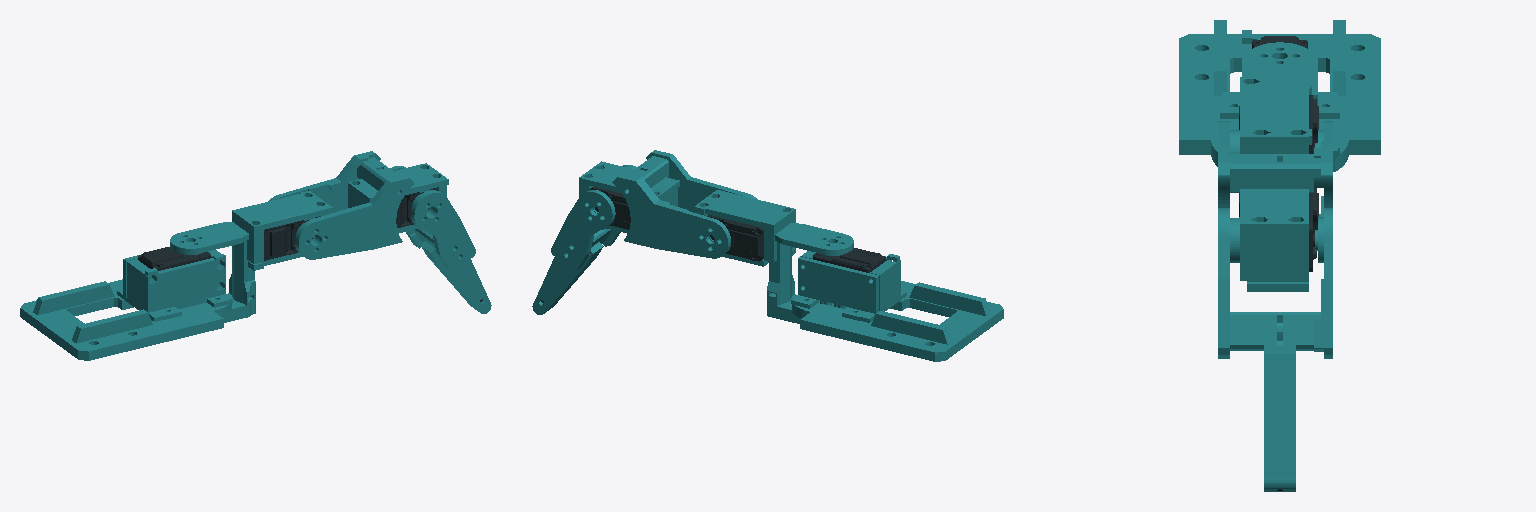
URDF robot description (mist_r7_fixed_test_leg):
<?xml version='1.0' encoding='utf-8'?>
<robot name="mist_r7_fixed_test_leg">
  <link name="base_mount">
    <visual name="yaw_case_saddle">
      <geometry>
        <mesh filename="../../design/single_leg_r7_wide_joints_20260914/output/assembly_mesh/yaw_case_saddle.stl" scale="0.001 0.001 0.001" />
      </geometry>
      <material name="yaw_case_saddle_colour">
        <color rgba="0.22 0.58 0.60 1" />
      </material>
    </visual>
    <visual name="case_cap_yaw">
      <geometry>
        <mesh filename="../../design/single_leg_r7_wide_joints_20260914/output/assembly_mesh/case_cap_yaw.stl" scale="0.001 0.001 0.001" />
      </geometry>
      <material name="case_cap_yaw_colour">
        <color rgba="0.22 0.58 0.60 1" />
      </material>
    </visual>
    <visual name="servo_yaw">
      <geometry>
        <mesh filename="../../design/single_leg_r7_wide_joints_20260914/output/assembly_mesh/servo_yaw.stl" scale="0.001 0.001 0.001" />
      </geometry>
      <material name="servo_yaw_colour">
        <color rgba="0.18 0.23 0.25 1" />
      </material>
    </visual>
    <visual name="bench_mounting_plate">
      <geometry>
        <mesh filename="../../design/single_leg_r7_wide_joints_20260914/output/assembly_mesh/bench_mounting_plate.stl" scale="0.001 0.001 0.001" />
      </geometry>
      <material name="bench_mounting_plate_colour">
        <color rgba="0.22 0.58 0.60 1" />
      </material>
    </visual>
    <inertial>
      <origin xyz="-0.03181038563164084 -4.9075545814887306e-05 -0.023931630508960546" />
      <mass value="0.15654936271041547" />
      <inertia ixx="8.672821644569633e-05" ixy="7.806166264533957e-08" ixz="-2.9782332326370206e-05" iyy="0.00020871868933529337" iyz="-3.694922418017422e-08" izz="0.0002518412264048065" />
    </inertial>
    <collision name="base_mount_proxy_0">
      <origin xyz="-0.014 0 -0.017" rpy="0 0 0" />
      <geometry>
        <box size="0.059 0.041 0.032" />
      </geometry>
    </collision>
  </link>
  <link name="coxa">
    <visual name="coxa_upper_and_hip_saddle">
      <geometry>
        <mesh filename="../../design/single_leg_r7_wide_joints_20260914/output/assembly_mesh/coxa_upper_and_hip_saddle.stl" scale="0.001 0.001 0.001" />
      </geometry>
      <material name="coxa_upper_and_hip_saddle_colour">
        <color rgba="0.22 0.58 0.60 1" />
      </material>
    </visual>
    <visual name="coxa_lower_auxiliary_arm">
      <geometry>
        <mesh filename="../../design/single_leg_r7_wide_joints_20260914/output/assembly_mesh/coxa_lower_auxiliary_arm.stl" scale="0.001 0.001 0.001" />
      </geometry>
      <material name="coxa_lower_auxiliary_arm_colour">
        <color rgba="0.22 0.58 0.60 1" />
      </material>
    </visual>
    <visual name="case_cap_hip">
      <geometry>
        <mesh filename="../../design/single_leg_r7_wide_joints_20260914/output/assembly_mesh/case_cap_hip.stl" scale="0.001 0.001 0.001" />
      </geometry>
      <material name="case_cap_hip_colour">
        <color rgba="0.22 0.58 0.60 1" />
      </material>
    </visual>
    <visual name="servo_hip">
      <geometry>
        <mesh filename="../../design/single_leg_r7_wide_joints_20260914/output/assembly_mesh/servo_hip.stl" scale="0.001 0.001 0.001" />
      </geometry>
      <material name="servo_hip_colour">
        <color rgba="0.18 0.23 0.25 1" />
      </material>
    </visual>
    <visual name="horn_yaw_main">
      <geometry>
        <mesh filename="../../design/single_leg_r7_wide_joints_20260914/output/assembly_mesh/horn_yaw_main.stl" scale="0.001 0.001 0.001" />
      </geometry>
      <material name="horn_yaw_main_colour">
        <color rgba="0.22 0.58 0.60 1" />
      </material>
    </visual>
    <visual name="horn_yaw_auxiliary">
      <geometry>
        <mesh filename="../../design/single_leg_r7_wide_joints_20260914/output/assembly_mesh/horn_yaw_auxiliary.stl" scale="0.001 0.001 0.001" />
      </geometry>
      <material name="horn_yaw_auxiliary_colour">
        <color rgba="0.22 0.58 0.60 1" />
      </material>
    </visual>
    <visual name="yaw_auxiliary_spacer_1">
      <geometry>
        <mesh filename="../../design/single_leg_r7_wide_joints_20260914/output/assembly_mesh/yaw_auxiliary_spacer_1.stl" scale="0.001 0.001 0.001" />
      </geometry>
      <material name="yaw_auxiliary_spacer_1_colour">
        <color rgba="0.22 0.58 0.60 1" />
      </material>
    </visual>
    <visual name="yaw_auxiliary_spacer_2">
      <geometry>
        <mesh filename="../../design/single_leg_r7_wide_joints_20260914/output/assembly_mesh/yaw_auxiliary_spacer_2.stl" scale="0.001 0.001 0.001" />
      </geometry>
      <material name="yaw_auxiliary_spacer_2_colour">
        <color rgba="0.22 0.58 0.60 1" />
      </material>
    </visual>
    <visual name="yaw_auxiliary_spacer_3">
      <geometry>
        <mesh filename="../../design/single_leg_r7_wide_joints_20260914/output/assembly_mesh/yaw_auxiliary_spacer_3.stl" scale="0.001 0.001 0.001" />
      </geometry>
      <material name="yaw_auxiliary_spacer_3_colour">
        <color rgba="0.22 0.58 0.60 1" />
      </material>
    </visual>
    <visual name="yaw_auxiliary_spacer_4">
      <geometry>
        <mesh filename="../../design/single_leg_r7_wide_joints_20260914/output/assembly_mesh/yaw_auxiliary_spacer_4.stl" scale="0.001 0.001 0.001" />
      </geometry>
      <material name="yaw_auxiliary_spacer_4_colour">
        <color rgba="0.22 0.58 0.60 1" />
      </material>
    </visual>
    <inertial>
      <origin xyz="0.055452587774020255 -0.00032622706613614225 -0.007411181974307129" />
      <mass value="0.11618827437852595" />
      <inertia ixx="4.884448832271316e-05" ixy="7.745356217217634e-07" ixz="-3.0773868545057644e-05" iyy="0.0001315815648874679" iyz="5.456770085067065e-07" izz="9.845169734911079e-05" />
    </inertial>
    <collision name="coxa_proxy_0">
      <origin xyz="0.039 0 0" rpy="0 0 0" />
      <geometry>
        <box size="0.078 0.024 0.018" />
      </geometry>
    </collision>
    <collision name="coxa_proxy_1">
      <origin xyz="0.067 0 -0.01" rpy="0 0 0" />
      <geometry>
        <box size="0.055 0.04 0.027" />
      </geometry>
    </collision>
  </link>
  <link name="femur">
    <visual name="femur_main_and_knee_saddle">
      <geometry>
        <mesh filename="../../design/single_leg_r7_wide_joints_20260914/output/assembly_mesh/femur_main_and_knee_saddle.stl" scale="0.001 0.001 0.001" />
      </geometry>
      <material name="femur_main_and_knee_saddle_colour">
        <color rgba="0.22 0.58 0.60 1" />
      </material>
    </visual>
    <visual name="femur_auxiliary_cheek">
      <geometry>
        <mesh filename="../../design/single_leg_r7_wide_joints_20260914/output/assembly_mesh/femur_auxiliary_cheek.stl" scale="0.001 0.001 0.001" />
      </geometry>
      <material name="femur_auxiliary_cheek_colour">
        <color rgba="0.22 0.58 0.60 1" />
      </material>
    </visual>
    <visual name="case_cap_knee">
      <geometry>
        <mesh filename="../../design/single_leg_r7_wide_joints_20260914/output/assembly_mesh/case_cap_knee.stl" scale="0.001 0.001 0.001" />
      </geometry>
      <material name="case_cap_knee_colour">
        <color rgba="0.22 0.58 0.60 1" />
      </material>
    </visual>
    <visual name="servo_knee">
      <geometry>
        <mesh filename="../../design/single_leg_r7_wide_joints_20260914/output/assembly_mesh/servo_knee.stl" scale="0.001 0.001 0.001" />
      </geometry>
      <material name="servo_knee_colour">
        <color rgba="0.18 0.23 0.25 1" />
      </material>
    </visual>
    <visual name="horn_hip_main">
      <geometry>
        <mesh filename="../../design/single_leg_r7_wide_joints_20260914/output/assembly_mesh/horn_hip_main.stl" scale="0.001 0.001 0.001" />
      </geometry>
      <material name="horn_hip_main_colour">
        <color rgba="0.22 0.58 0.60 1" />
      </material>
    </visual>
    <visual name="horn_hip_auxiliary">
      <geometry>
        <mesh filename="../../design/single_leg_r7_wide_joints_20260914/output/assembly_mesh/horn_hip_auxiliary.stl" scale="0.001 0.001 0.001" />
      </geometry>
      <material name="horn_hip_auxiliary_colour">
        <color rgba="0.22 0.58 0.60 1" />
      </material>
    </visual>
    <inertial>
      <origin xyz="0.0633651760426129 -0.001298314040615189 0.001934967497040738" />
      <mass value="0.12491601583063594" />
      <inertia ixx="3.8022032231092195e-05" ixy="-3.321671674319615e-06" ixz="-3.950552346680719e-07" iyy="0.00011345261288137595" iyz="3.8489769422451107e-07" izz="0.00012329667234778685" />
    </inertial>
    <collision name="femur_proxy_0">
      <origin xyz="0.043 0 0" rpy="0 0 0" />
      <geometry>
        <box size="0.08599999999999999 0.024 0.018" />
      </geometry>
    </collision>
    <collision name="femur_proxy_1">
      <origin xyz="0.075 0 0.01" rpy="0 0 0" />
      <geometry>
        <box size="0.047 0.041 0.027" />
      </geometry>
    </collision>
  </link>
  <link name="tibia">
    <visual name="tibia_curved_main_and_foot">
      <geometry>
        <mesh filename="../../design/single_leg_r7_wide_joints_20260914/output/assembly_mesh/tibia_curved_main_and_foot.stl" scale="0.001 0.001 0.001" />
      </geometry>
      <material name="tibia_curved_main_and_foot_colour">
        <color rgba="0.22 0.58 0.60 1" />
      </material>
    </visual>
    <visual name="tibia_auxiliary_cheek">
      <geometry>
        <mesh filename="../../design/single_leg_r7_wide_joints_20260914/output/assembly_mesh/tibia_auxiliary_cheek.stl" scale="0.001 0.001 0.001" />
      </geometry>
      <material name="tibia_auxiliary_cheek_colour">
        <color rgba="0.22 0.58 0.60 1" />
      </material>
    </visual>
    <visual name="horn_knee_main">
      <geometry>
        <mesh filename="../../design/single_leg_r7_wide_joints_20260914/output/assembly_mesh/horn_knee_main.stl" scale="0.001 0.001 0.001" />
      </geometry>
      <material name="horn_knee_main_colour">
        <color rgba="0.22 0.58 0.60 1" />
      </material>
    </visual>
    <visual name="horn_knee_auxiliary">
      <geometry>
        <mesh filename="../../design/single_leg_r7_wide_joints_20260914/output/assembly_mesh/horn_knee_auxiliary.stl" scale="0.001 0.001 0.001" />
      </geometry>
      <material name="horn_knee_auxiliary_colour">
        <color rgba="0.22 0.58 0.60 1" />
      </material>
    </visual>
    <inertial>
      <origin xyz="0.0414753995760796 -0.001694745710956234 0.0002991704986421671" />
      <mass value="0.049304916675112435" />
      <inertia ixx="1.341332884585064e-05" ixy="-1.987778173156809e-06" ixz="3.6852256179443966e-07" iyy="4.556212902457954e-05" iyz="3.336425043941025e-08" izz="5.547369214215767e-05" />
    </inertial>
    <collision name="tibia_proxy_0">
      <origin xyz="0.048 0 0" rpy="0 0 0" />
      <geometry>
        <box size="0.092 0.017 0.014" />
      </geometry>
    </collision>
  </link>
  <joint name="yaw" type="revolute">
    <parent link="base_mount" />
    <child link="coxa" />
    <origin xyz="0 0 0" rpy="0 0 0" />
    <axis xyz="0 0 1" />
    <limit lower="-0.9599310885968813" upper="0.9599310885968813" effort="0.588" velocity="4.717" />
    <dynamics damping="0.015" friction="0.0" />
  </joint>
  <joint name="hip" type="revolute">
    <parent link="coxa" />
    <child link="femur" />
    <origin xyz=".082 0 0" rpy="0 0 0" />
    <axis xyz="0 1 0" />
    <limit lower="-0.5235987755982988" upper="1.1344640137963142" effort="0.588" velocity="4.717" />
    <dynamics damping="0.015" friction="0.0" />
  </joint>
  <joint name="knee" type="revolute">
    <parent link="femur" />
    <child link="tibia" />
    <origin xyz=".090 0 0" rpy="0 0 0" />
    <axis xyz="0 1 0" />
    <limit lower="0.08726646259971647" upper="2.007128639793479" effort="0.588" velocity="4.717" />
    <dynamics damping="0.015" friction="0.0" />
  </joint>
  <link name="toe">
    <inertial>
      <origin xyz="0 0 0" rpy="0 0 0" />
      <mass value="0" />
      <inertia ixx="0" ixy="0" ixz="0" iyy="0" iyz="0" izz="0" />
    </inertial>
    <collision name="toe_sphere">
      <origin xyz="0 0 0" rpy="0 0 0" />
      <geometry>
        <sphere radius="0.005" />
      </geometry>
    </collision>
    <visual name="toe_contact">
      <origin xyz="0 0 0" rpy="0 0 0" />
      <geometry>
        <sphere radius="0.005" />
      </geometry>
      <material name="toe_contact_material">
        <color rgba="0.15 0.15 0.15 1" />
      </material>
    </visual>
  </link>
  <joint name="toe_fixed" type="fixed">
    <parent link="tibia" />
    <child link="toe" />
    <origin xyz="0.105 0 0" rpy="0 0 0" />
  </joint>
</robot>

--- What the picture shows (computed from the rendered views, not written in the file) ---
Views: 3 orthographic renders of the robot side by side, from view 1: azimuth 30°, elevation 25°; view 2: azimuth 150°, elevation 25°; view 3: azimuth 270°, elevation 25°.
Robot: mist_r7_fixed_test_leg — 5 links, 4 joints (3 revolute, 1 fixed); root link base_mount; default pose: all joints at 0 but 1 set to mid-range because 0 is outside their limits (knee = 1.05).
Visible links, largest first — view 1: base_mount, femur, coxa, tibia; view 2: base_mount, femur, coxa, tibia; view 3: base_mount, femur, tibia, coxa.
Link boxes in pixels (x1,y1,x2,y2): base_mount: (20, 247, 232, 360); femur: (268, 151, 448, 259); coxa: (170, 191, 332, 322); tibia: (390, 166, 491, 313); base_mount: (791, 248, 1003, 361); femur: (579, 150, 757, 258); coxa: (694, 190, 853, 323); tibia: (532, 165, 636, 314); base_mount: (1179, 20, 1380, 171); femur: (1218, 121, 1332, 291); tibia: (1218, 208, 1332, 491); coxa: (1239, 42, 1318, 153).
Bounding box of the posed robot: 0.3395 × 0.088 × 0.1254 m (x, y, z).
24 mesh visuals loaded from 24 distinct referenced files (24 binary STL).
